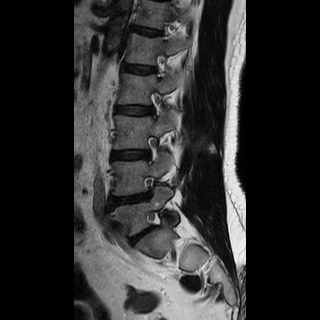LFS0: (141, 131, 164, 169), (141, 205, 170, 235)
LFS1: (139, 171, 163, 204)
